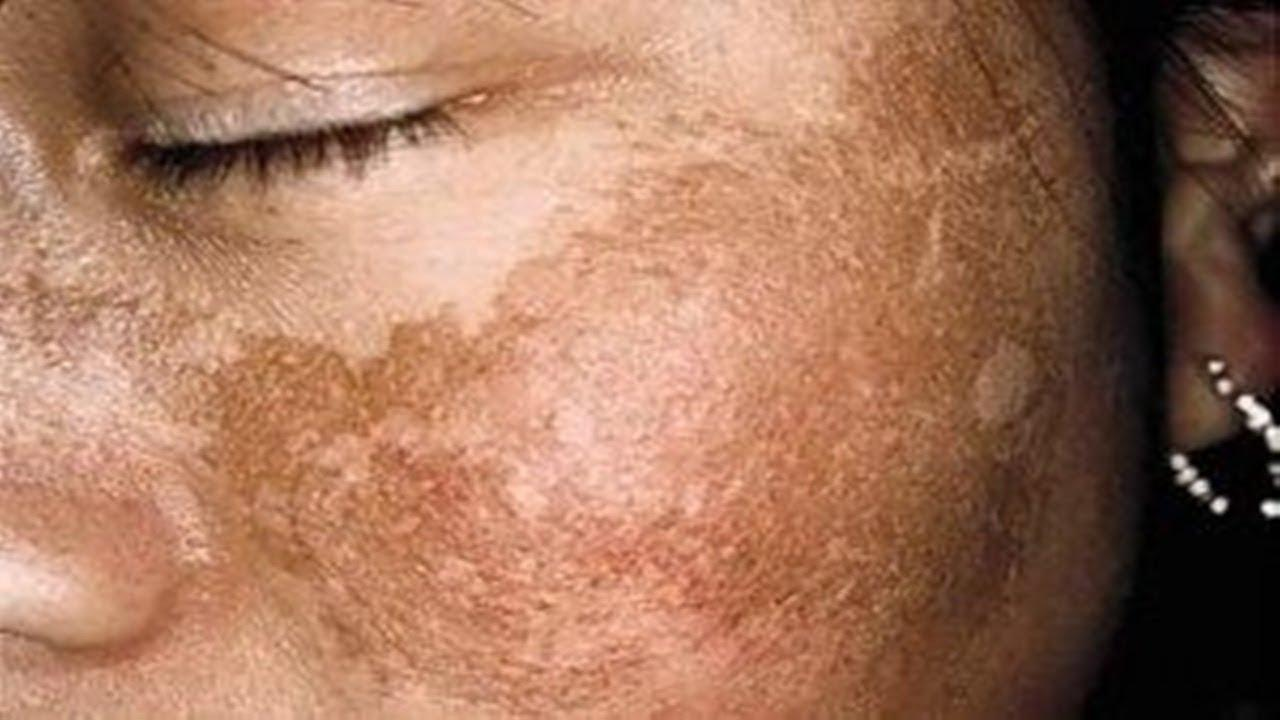Dark-Spots: (1, 247, 1058, 720), (577, 5, 1098, 240)
